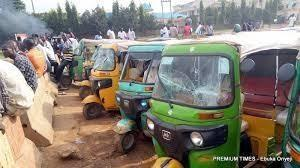keke: (146, 27, 296, 168), (115, 42, 168, 160), (80, 42, 121, 122)
